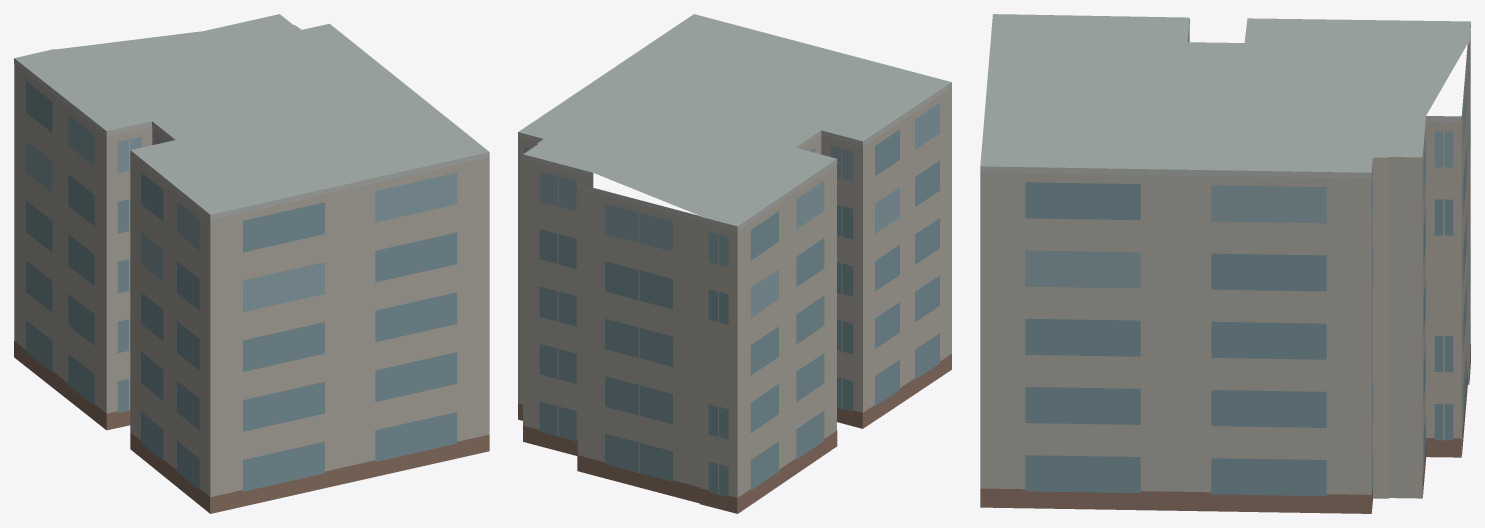
File: survey-upis-32663345.glb
3 views of the same model, side by side, from view 1: azimuth 30°, elevation 25°; view 2: azimuth 150°, elevation 25°; view 3: azimuth 270°, elevation 25° (orthographic). The views are drawn at different scales.
Parts seen in each view (by area): view 1: survey-upis-32663345.tmp; view 2: survey-upis-32663345.tmp; view 3: survey-upis-32663345.tmp.
Boxes of the visible parts, x1=… form: survey-upis-32663345.tmp: x1=14, y1=14, x2=489, y2=513; survey-upis-32663345.tmp: x1=518, y1=14, x2=951, y2=513; survey-upis-32663345.tmp: x1=980, y1=14, x2=1470, y2=513.
Size of the model in its own units: 13.74 by 13.76 by 17.94.
